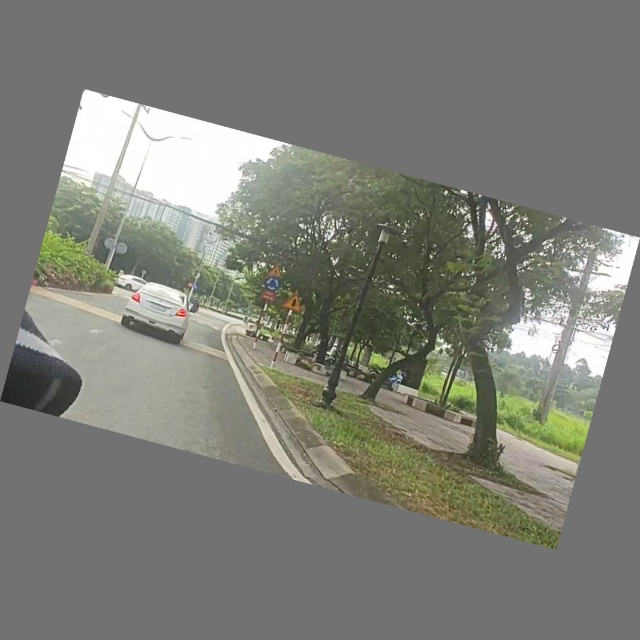P.102: (187, 281, 193, 289)
R.302a: (191, 283, 200, 292)
R.303: (263, 276, 283, 293)
W.207: (282, 292, 306, 315)
W.224: (265, 263, 285, 280)
